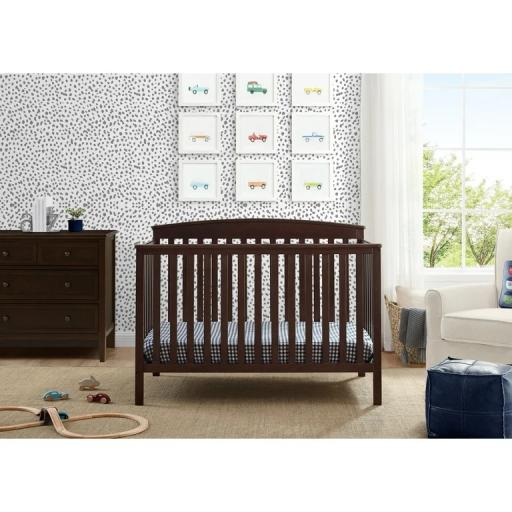crib: (136, 219, 381, 404)
